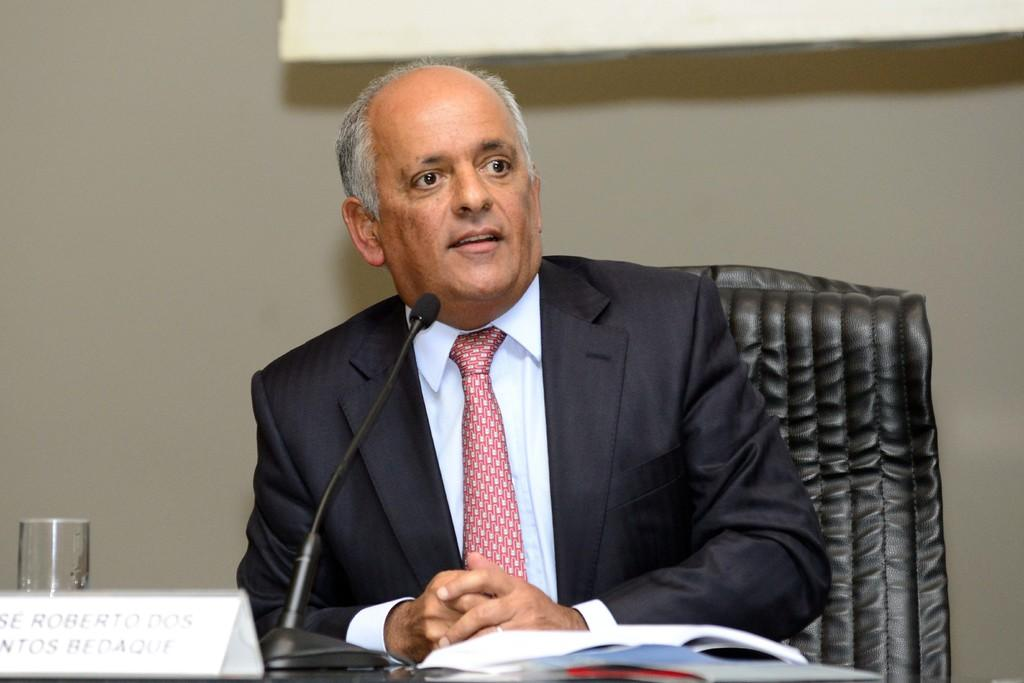no_helmet: (336, 145, 532, 207)
none: (260, 302, 782, 538)
